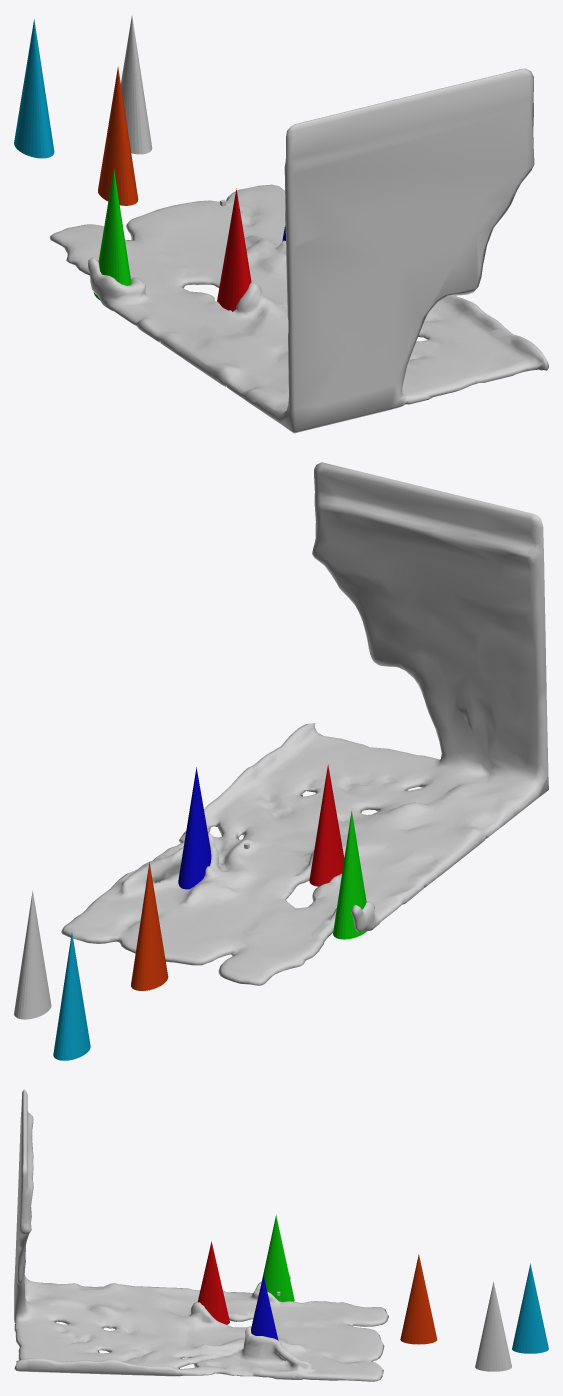
The picture shows the model from 3 angles, top to bottom: view 1: azimuth 30°, elevation 25°; view 2: azimuth 150°, elevation 25°; view 3: azimuth 270°, elevation 25°; orthographic projection. The views are drawn at different scales.
Visible parts, largest first — view 1: Liquid_Domain, 円錐.005, 円錐.004, 円錐, 円錐.001, 円錐.003; view 2: Liquid_Domain, 円錐.005, 円錐, 円錐.004, 円錐.001, 円錐.002, 円錐.003; view 3: Liquid_Domain, 円錐.004, 円錐.005, 円錐, 円錐.003, 円錐.001, 円錐.002.
Part boxes in pixels (<box>): Liquid_Domain: <box>49,68,548,433</box>; 円錐.005: <box>14,19,54,158</box>; 円錐.004: <box>98,66,138,205</box>; 円錐: <box>121,15,152,154</box>; 円錐.001: <box>217,188,251,311</box>; 円錐.003: <box>93,168,131,299</box>; Liquid_Domain: <box>61,462,548,985</box>; 円錐.005: <box>53,932,90,1060</box>; 円錐: <box>14,891,51,1019</box>; 円錐.004: <box>131,862,168,990</box>; 円錐.001: <box>309,764,344,886</box>; 円錐.002: <box>178,767,211,889</box>; 円錐.003: <box>333,811,366,939</box>; Liquid_Domain: <box>14,1089,388,1381</box>; 円錐.004: <box>400,1254,437,1344</box>; 円錐.005: <box>512,1263,548,1353</box>; 円錐: <box>475,1282,511,1371</box>; 円錐.003: <box>262,1215,294,1301</box>; 円錐.001: <box>197,1241,229,1324</box>; 円錐.002: <box>251,1275,278,1340</box>.
Bounding box in the file's own units: 129 × 158 × 347.
